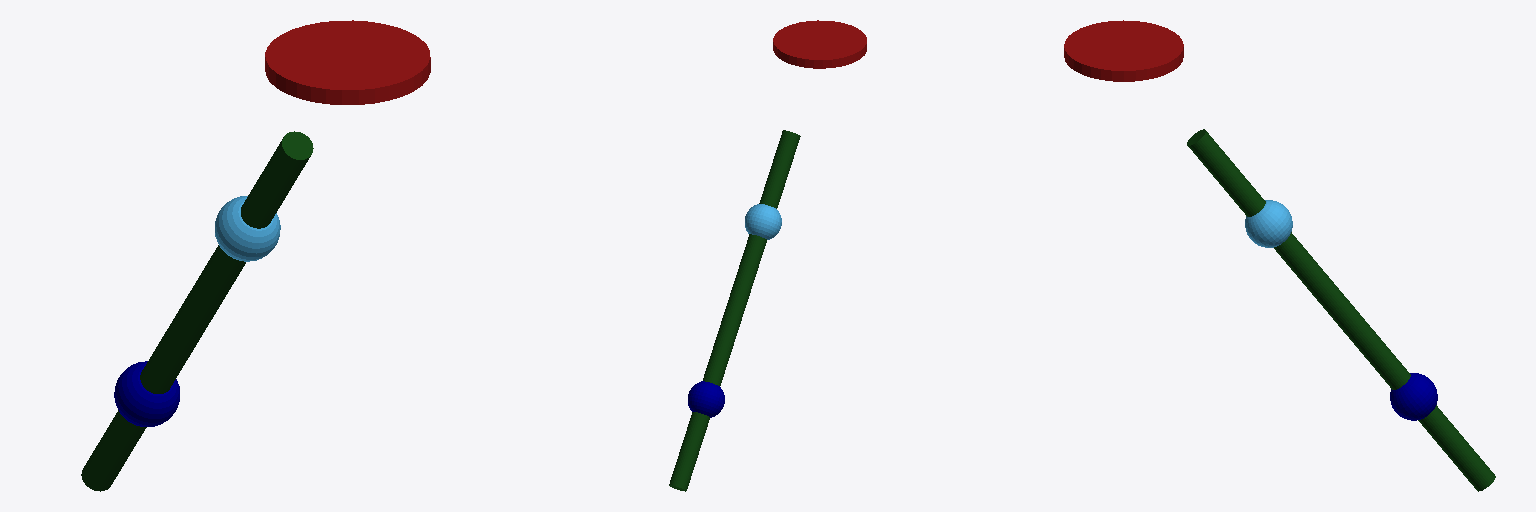
robot.urdf — RRBot_description:
<?xml version="1.0" ?>
<!--simple rrbot-->

<robot name="RRBot_description">
    <link name="base_link">
        <inertial>
            <origin xyz="0.0 0.0 0.0" rpy="0 0 0" />
            <mass value="1" />
            <inertia ixx="0.1" iyy="0.1" izz="0.1" ixy="0" ixz="0" iyz="0" />
        </inertial>
        <visual>
            <origin xyz="0.0 0.0 0.0" rpy="0 0 0" />
            <geometry>
                <cylinder radius="0.25" length="0.05"/>
            </geometry>
            <material name="material_red_custom" >
                <color rgba="0.6 0.1 0.1 1.0" />
            </material>   
        </visual>
    </link>
    <link name="link0">
        <inertial>
            <origin xyz="0.0 0.0 -1.0" rpy="0 0 0" />
            <mass value="1" />
            <inertia ixx="0.1" iyy="0.1" izz="0.1" ixy="0" ixz="0" iyz="0" />
        </inertial>
        <visual>
            <origin xyz="0.0 0.0 -1.0" rpy="0 0 0" />
            <geometry>
                <sphere radius="0.1" />
            </geometry>
        </visual>
        <visual>
            <origin xyz="0.0 0.0 -1.0" rpy="0 0 0" />
            <geometry>
                <cylinder radius="0.05" length="1.0" />
            </geometry>
            <material name="material_green_custom" >
                <color rgba="0.1 0.3 0.1 1.0" />
            </material>            
        </visual>
    </link>
    <link name="link1">
        <inertial>
            <origin xyz="0.0 0.0 -1.0" rpy="0 0 0" />
            <mass value="1" />
            <inertia ixx="0.1" iyy="0.1" izz="0.1" ixy="0" ixz="0" iyz="0" />
        </inertial>
        <visual>
            <origin xyz="0.0 0.0 -1.0" rpy="0 0 0" />
            <geometry>
                <sphere radius="0.1" />
            </geometry>
            <material name="material_blue">
                <color rgba="0.0 0.0 0.6 1.0" />
            </material>
        </visual>
        <visual>
            <origin xyz="0.0 0.0 -1.0" rpy="0 0 0" />
            <geometry>
                <cylinder radius="0.05" length="1.0" />
            </geometry>
            <material name="material_green_custom" >
                <color rgba="0.1 0.3 0.1 1.0" />
            </material> 
        </visual>
    </link>
    
    <joint name="j0" type="revolute">
        <parent link="base_link" />
        <child link="link0" />
        <origin xyz="0.000000 0.000000 0.000000" rpy="-0.000000 0.000000 -0.000000" />
        <axis xyz="1 0 0" />
        <limit lower="0.3" upper="1.0" effort="176" velocity="1.7104" />
        <!-- this is natural robot damping -->
        <dynamics damping="0.8" /> 
        <calibration rising="0.5" />
    </joint>
    <joint name="j1" type="continuous">
        <parent link="link0" />
        <child link="link1" />
        <origin xyz="0.000000 0.000000 -1.000000" rpy="-0.000000 0.000000 -0.000000" />
        <axis xyz="1 0 0" />
        <limit lower="-0.1" upper="1.0" effort="176" velocity="1.7104" />
        <dynamics damping="0.8" />
        <calibration rising="0.8" />
    </joint>
    
</robot>

--- Facts derived from the render (not from the file) ---
3 views of the same robot in one strip: view 1: azimuth 30°, elevation 25°; view 2: azimuth 150°, elevation 25°; view 3: azimuth 270°, elevation 25° (orthographic).
Robot: RRBot_description — 3 links, 2 joints (1 revolute, 1 continuous); root link base_link; default pose: joints at zero except 1 at the middle of their limits (j0 = 0.65).
Visible links, largest first — view 1: base_link, link0, link1; view 2: link1, link0, base_link; view 3: link0, link1, base_link.
Link boxes in pixels (x1,y1,x2,y2): base_link: (265, 20, 430, 104); link0: (182, 131, 313, 325); link1: (81, 304, 208, 491); link1: (669, 308, 743, 491); link0: (726, 130, 800, 312); base_link: (773, 20, 866, 68); link0: (1187, 129, 1350, 318); link1: (1333, 304, 1495, 491); base_link: (1064, 20, 1183, 81).
Size in the robot's own frame: 0.5 by 1.8 by 2.05 metres.
Geometry: primitives only (box / cylinder / sphere), no mesh files.